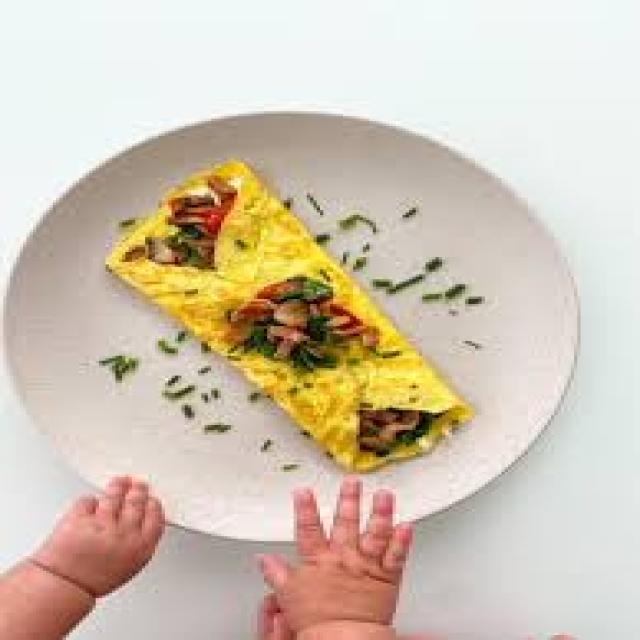telur_ayam_dadar: (102, 156, 475, 472)
